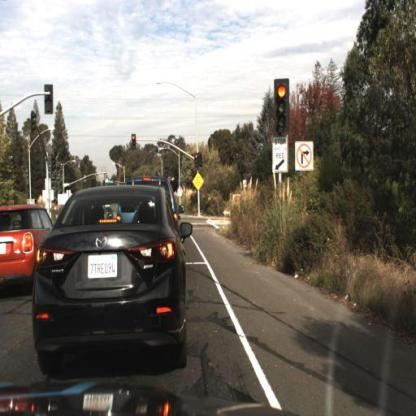car: (26, 182, 194, 373), (1, 194, 58, 301)
trafficLight-Red: (267, 62, 297, 156), (273, 79, 292, 137), (127, 127, 139, 156), (192, 148, 202, 177), (131, 133, 139, 154), (194, 152, 201, 170)
